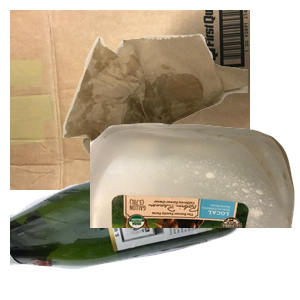cardboard: (10, 10, 250, 190)
glass: (10, 154, 246, 300)
plastic: (90, 120, 300, 300)
trash: (60, 31, 300, 189)
